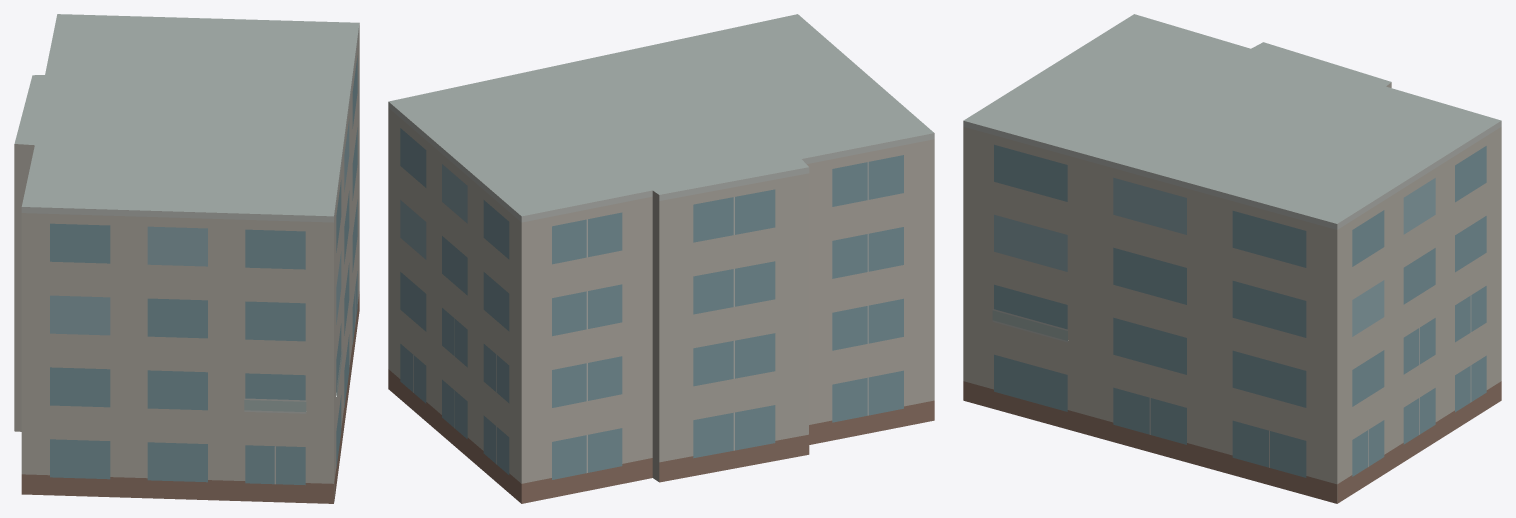
The model's file is survey-upis-32660551.glb.
3 renders of one model, left to right at view 1: azimuth 30°, elevation 25°; view 2: azimuth 150°, elevation 25°; view 3: azimuth 270°, elevation 25°, orthographic. The views are drawn at different scales.
Parts seen in each view (by area): view 1: survey-upis-32660551.tmp; view 2: survey-upis-32660551.tmp; view 3: survey-upis-32660551.tmp.
Boxes of the visible parts, <box> form: survey-upis-32660551.tmp: <box>14,14,359,503</box>; survey-upis-32660551.tmp: <box>388,14,934,503</box>; survey-upis-32660551.tmp: <box>963,14,1501,503</box>.
Size of the model in its own units: 18.35 by 11.4 by 19.88.
